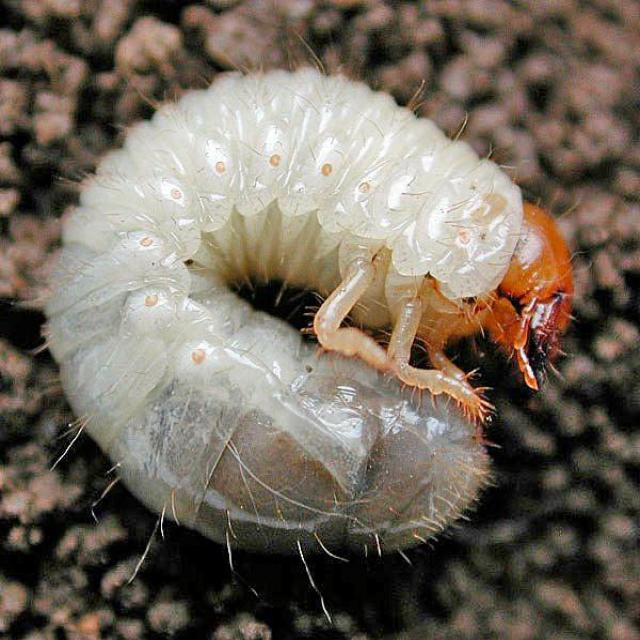Grub-Adult-: (23, 52, 590, 577)
